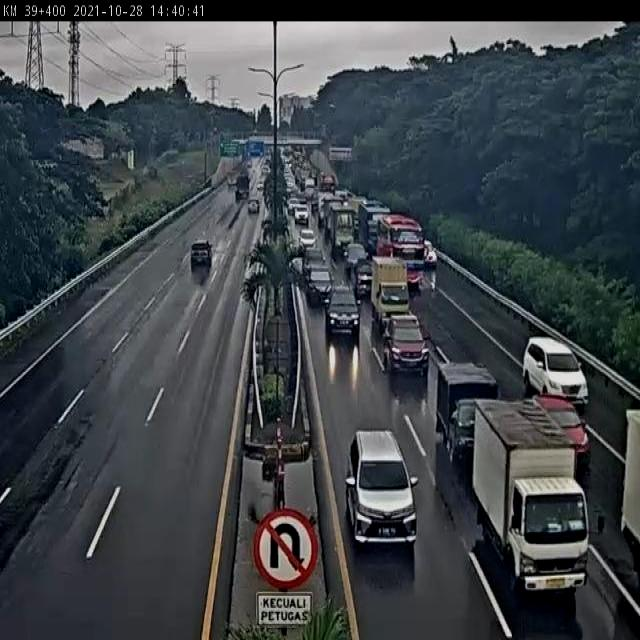Car: (344, 428, 422, 551), (522, 336, 588, 408), (381, 315, 428, 377), (325, 286, 361, 342), (305, 265, 333, 305), (353, 257, 373, 300), (190, 240, 212, 268), (298, 228, 316, 248), (294, 205, 308, 225), (248, 199, 260, 214), (256, 182, 264, 191)
Truck: (474, 397, 591, 597), (372, 256, 411, 320)
